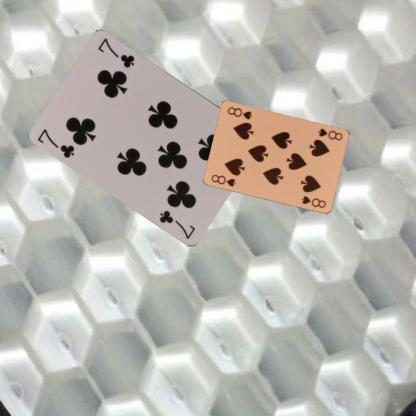7c: (36, 126, 76, 160)
8s: (208, 172, 238, 188), (315, 126, 344, 142)
